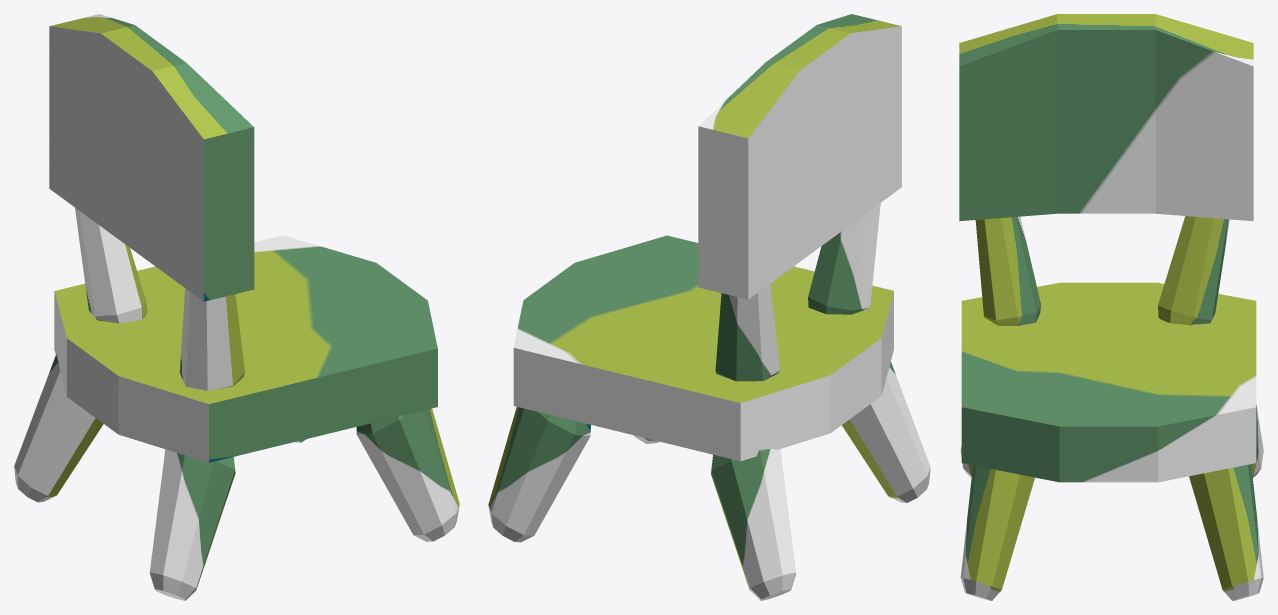
The model's file is chair-green.fbx.
3 views of the same model, side by side, from view 1: azimuth 30°, elevation 25°; view 2: azimuth 150°, elevation 25°; view 3: azimuth 270°, elevation 25° (orthographic). The views are drawn at different scales.
Parts seen in each view (by area): view 1: chair.002; view 2: chair.002; view 3: chair.002.
Boxes of the visible parts, x1=… form: chair.002: x1=14, y1=14, x2=459, y2=600; chair.002: x1=488, y1=14, x2=930, y2=600; chair.002: x1=959, y1=14, x2=1263, y2=600.
Bounding box in the file's own units: 237 × 356 × 207.
